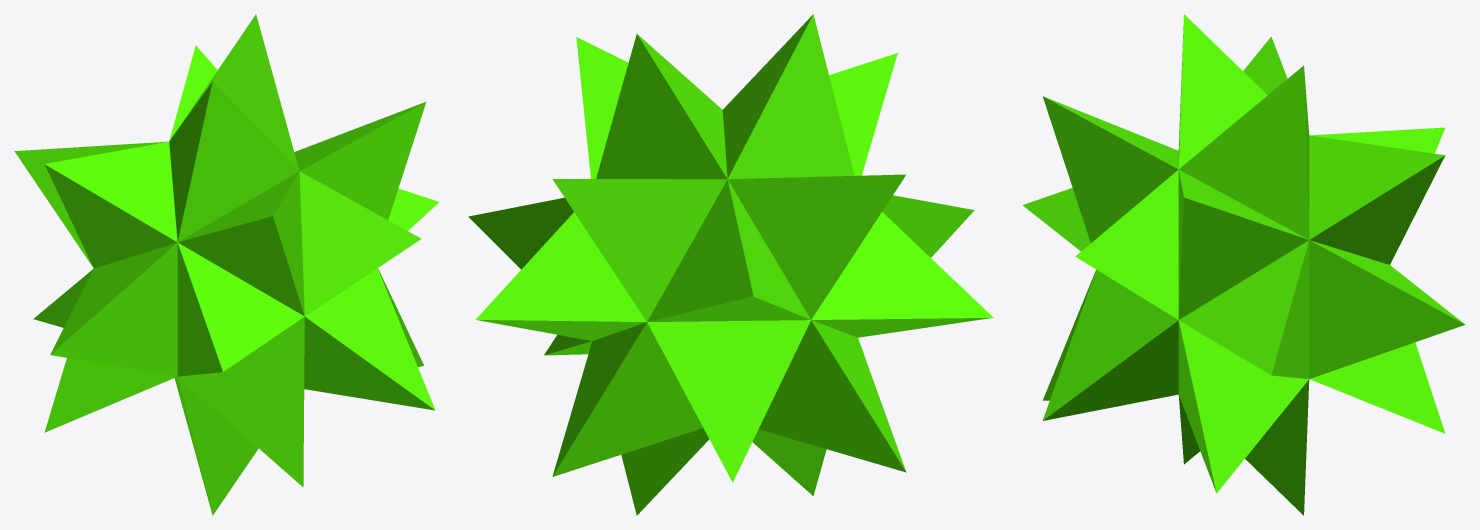
File: StarDust.fbx
The picture shows the model from 3 angles, left to right: view 1: azimuth 30°, elevation 25°; view 2: azimuth 150°, elevation 25°; view 3: azimuth 270°, elevation 25°; orthographic projection. The views are drawn at different scales.
Parts seen in each view (by area): view 1: pPlatonic1; view 2: pPlatonic1; view 3: pPlatonic1.
Boxes of the visible parts, <box> form: pPlatonic1: <box>14,14,439,515</box>; pPlatonic1: <box>468,14,993,515</box>; pPlatonic1: <box>1022,14,1465,515</box>.
Size of the model in its own units: 3.54 by 3.41 by 3.04.
